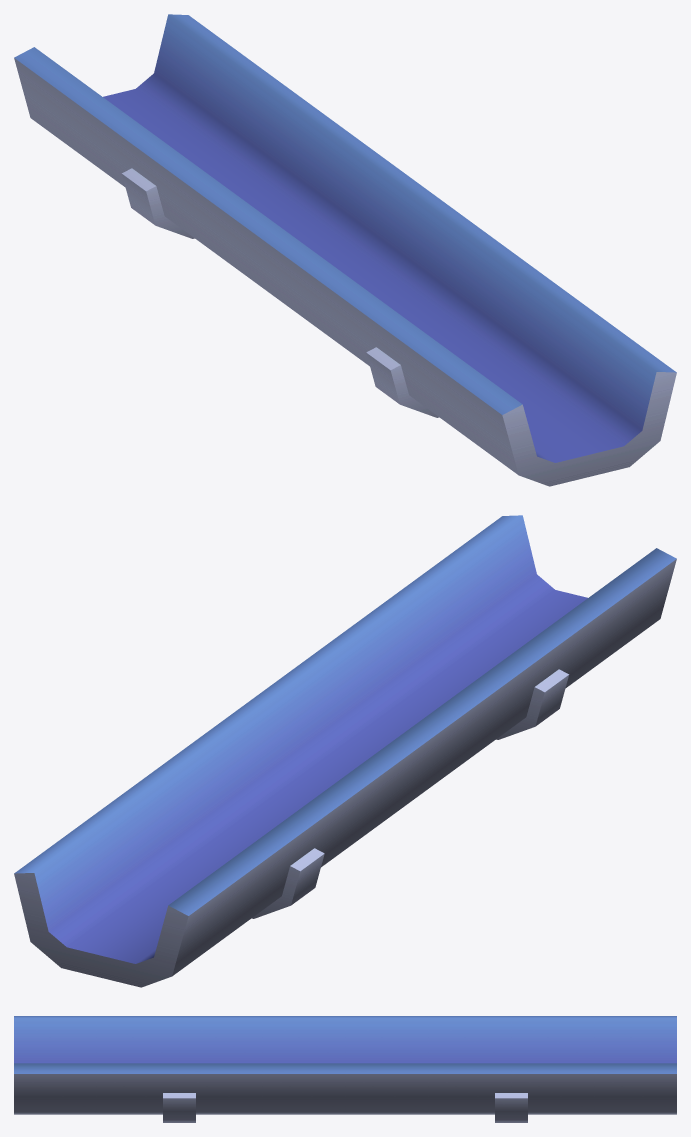
The model's file is coaster-flume-straight.glb.
The picture shows the model from 3 angles, top to bottom: view 1: azimuth 30°, elevation 25°; view 2: azimuth 150°, elevation 25°; view 3: azimuth 270°, elevation 25°; orthographic projection. The views are drawn at different scales.
Visible parts, largest first — view 1: coaster-flume-straight; view 2: coaster-flume-straight; view 3: coaster-flume-straight.
Part boxes in pixels (x1,y1,x2,y2): coaster-flume-straight: [14, 14, 676, 486]; coaster-flume-straight: [14, 515, 676, 987]; coaster-flume-straight: [14, 1016, 676, 1122].
Bounding box in the file's own units: 0.8448 × 0.4507 × 4.
1 material, 1 textured.
